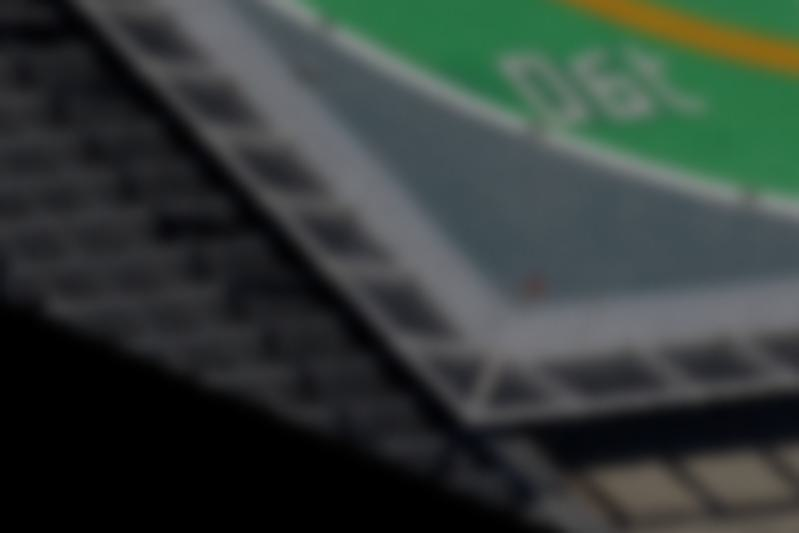Apron: (566, 1, 799, 77)
